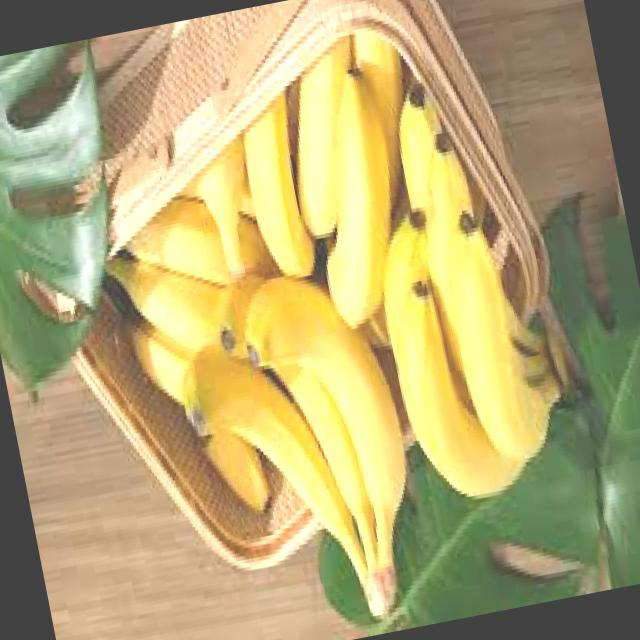Banana: (346, 65, 587, 512), (159, 255, 436, 640), (86, 140, 290, 418)
